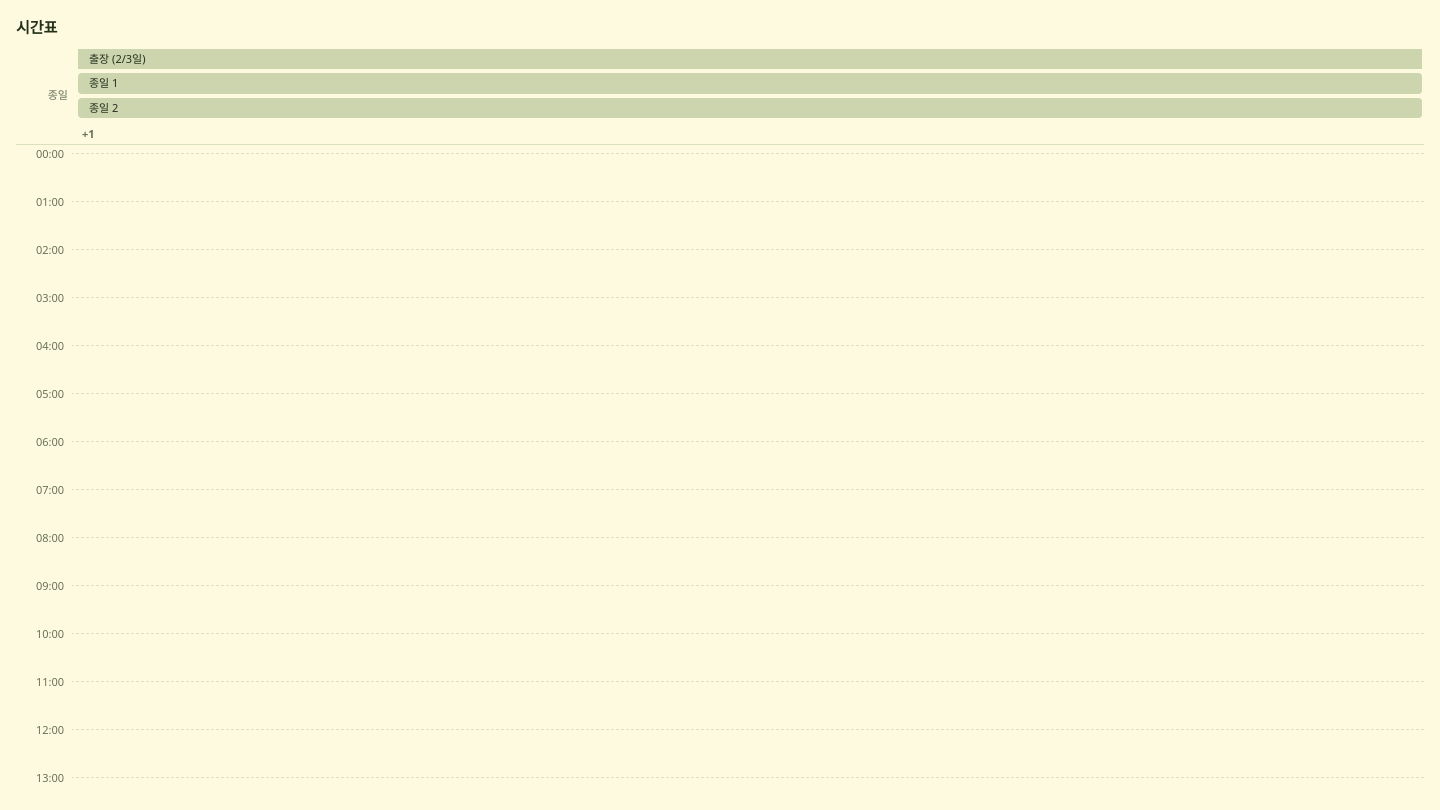
it: 일간 종일 줄의 여러 날 일정 — 몇째 날 (D-052 보완) › 제목 뒤에 '(2/3일)', '+n' 목록에도 같게
This screenshot has width=1440, height=810.
Expected: the button "출장 (2/3일)" is shown, [78,48,1422,69]
Step 1. Click the button named "종일 일정 1개 더 보기" → (85, 134), box [76,126,1424,142]
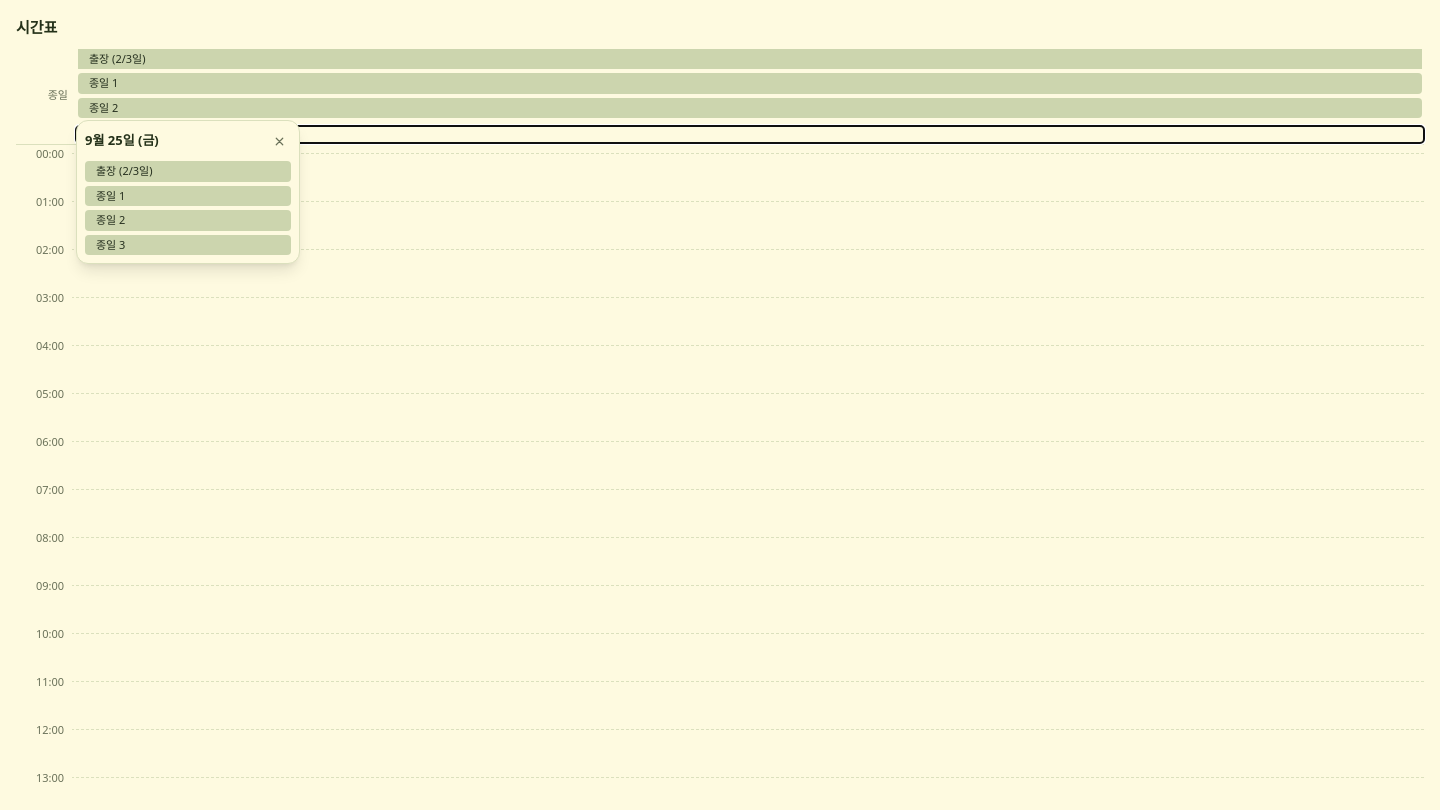
Result: the button "출장 (2/3일)" below "9월 25일 (금)" is shown at [85,161,291,182]
